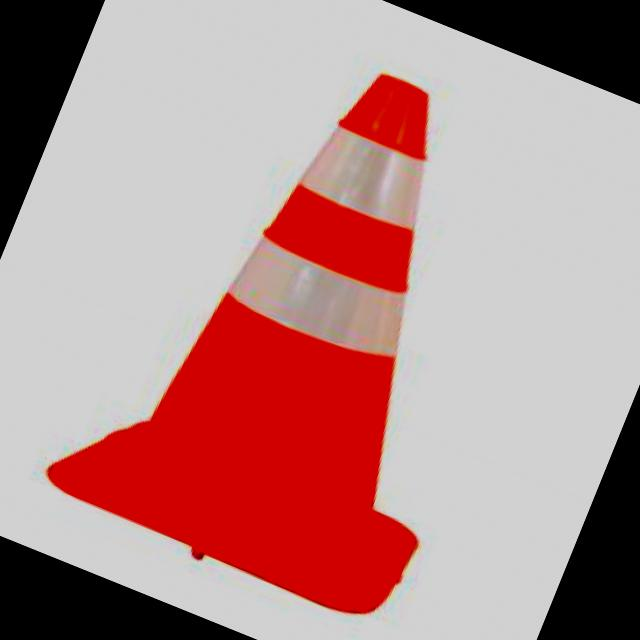cone: (14, 4, 582, 640)
